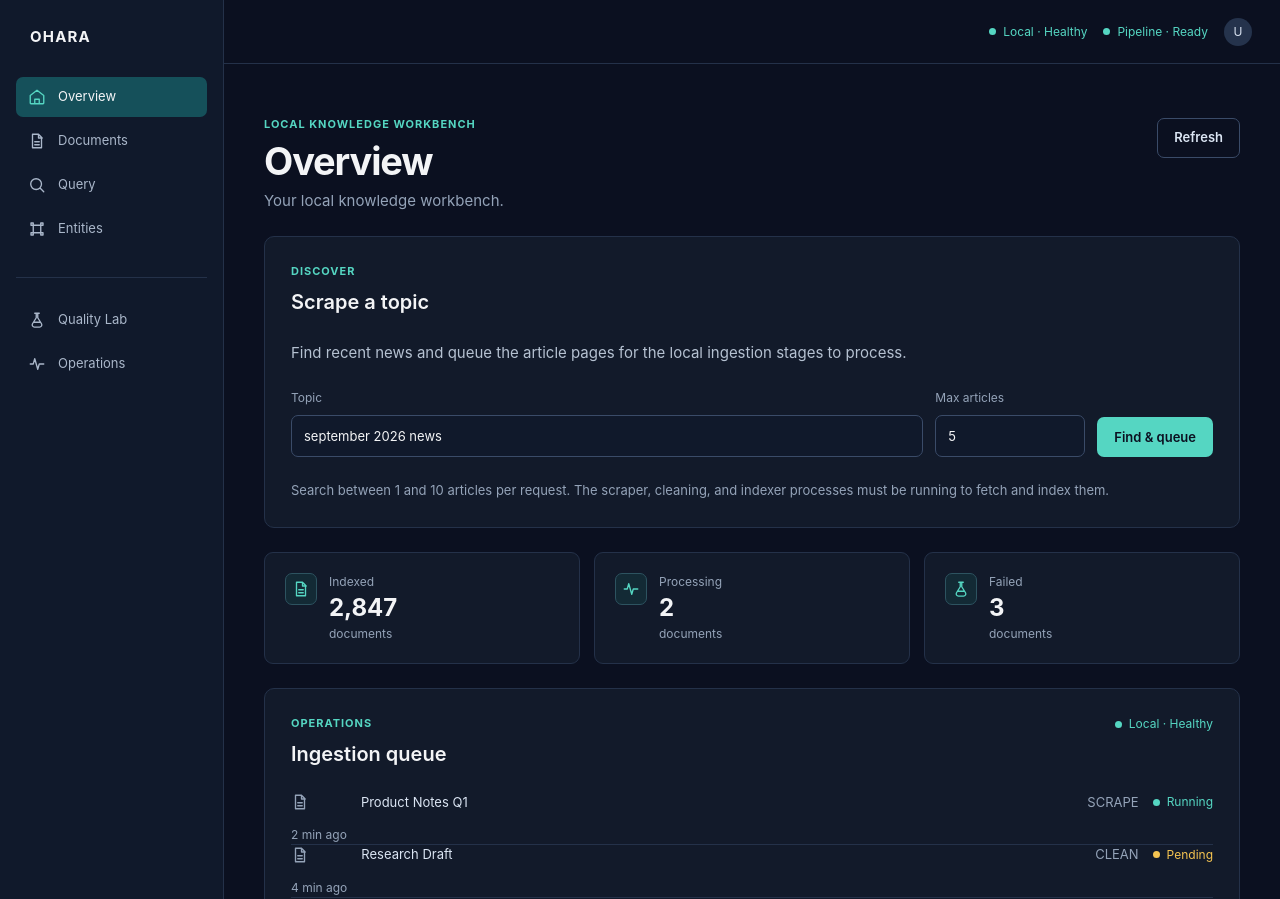
Test: App shell › shows the ungrounded query state
Click the link "Query".
click(62, 184)  # box [28, 176, 96, 194]
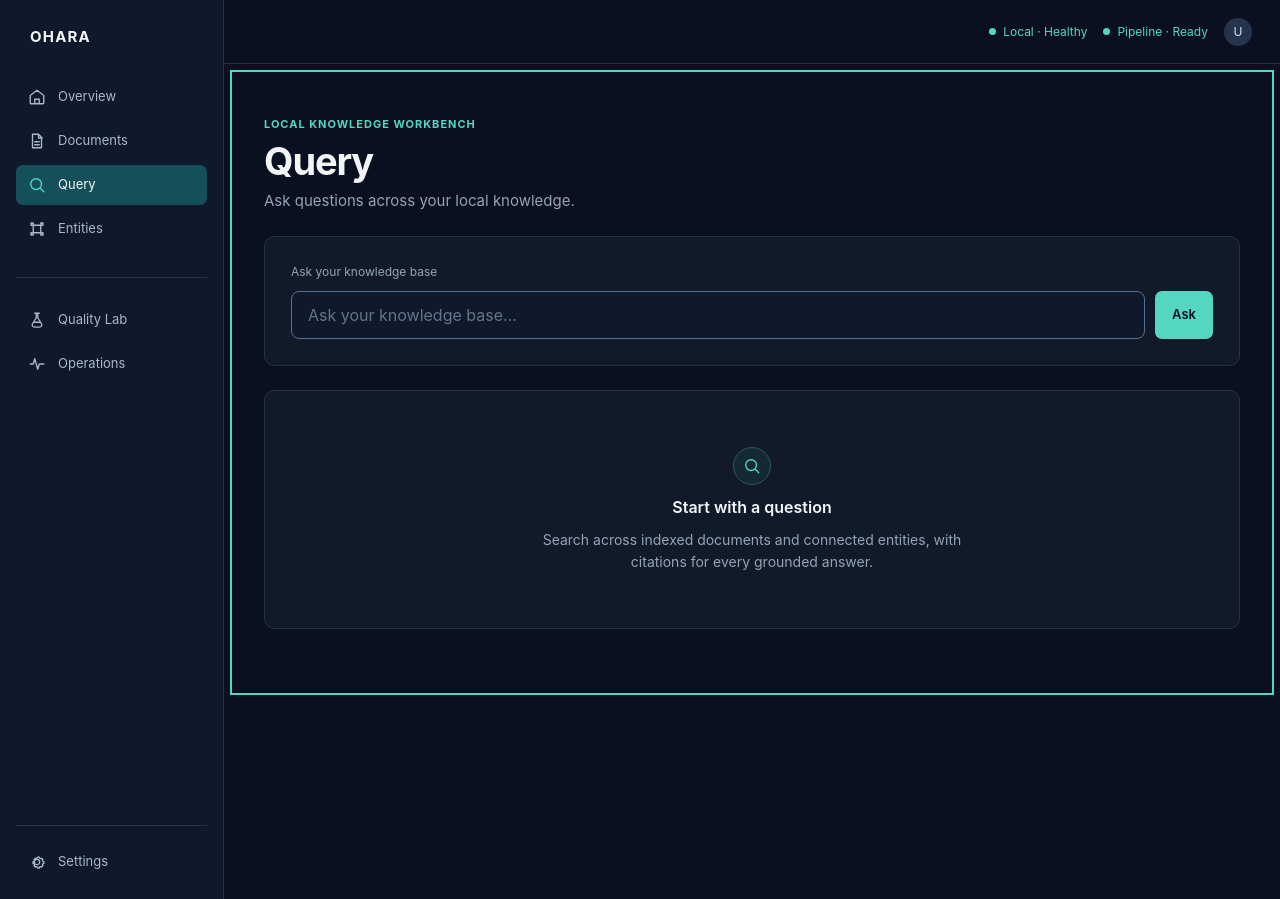
Type "Show an ungrounded answer" into the field labelled "Ask your knowledge base".
click(718, 315); type("Show an ungrounded answer")  # box [291, 291, 1145, 339]
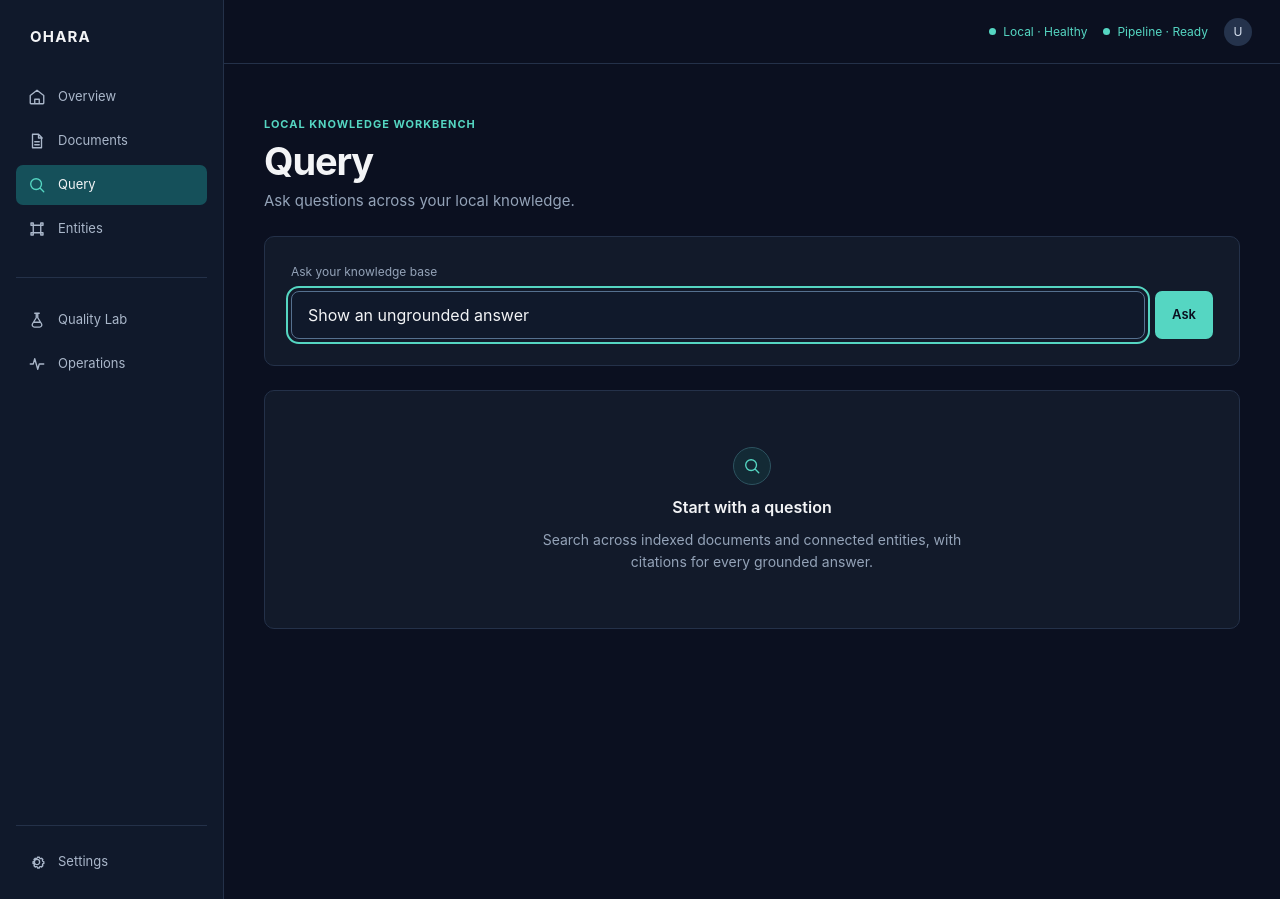
Click the button "Ask".
click(1184, 315)  # box [1155, 291, 1213, 339]
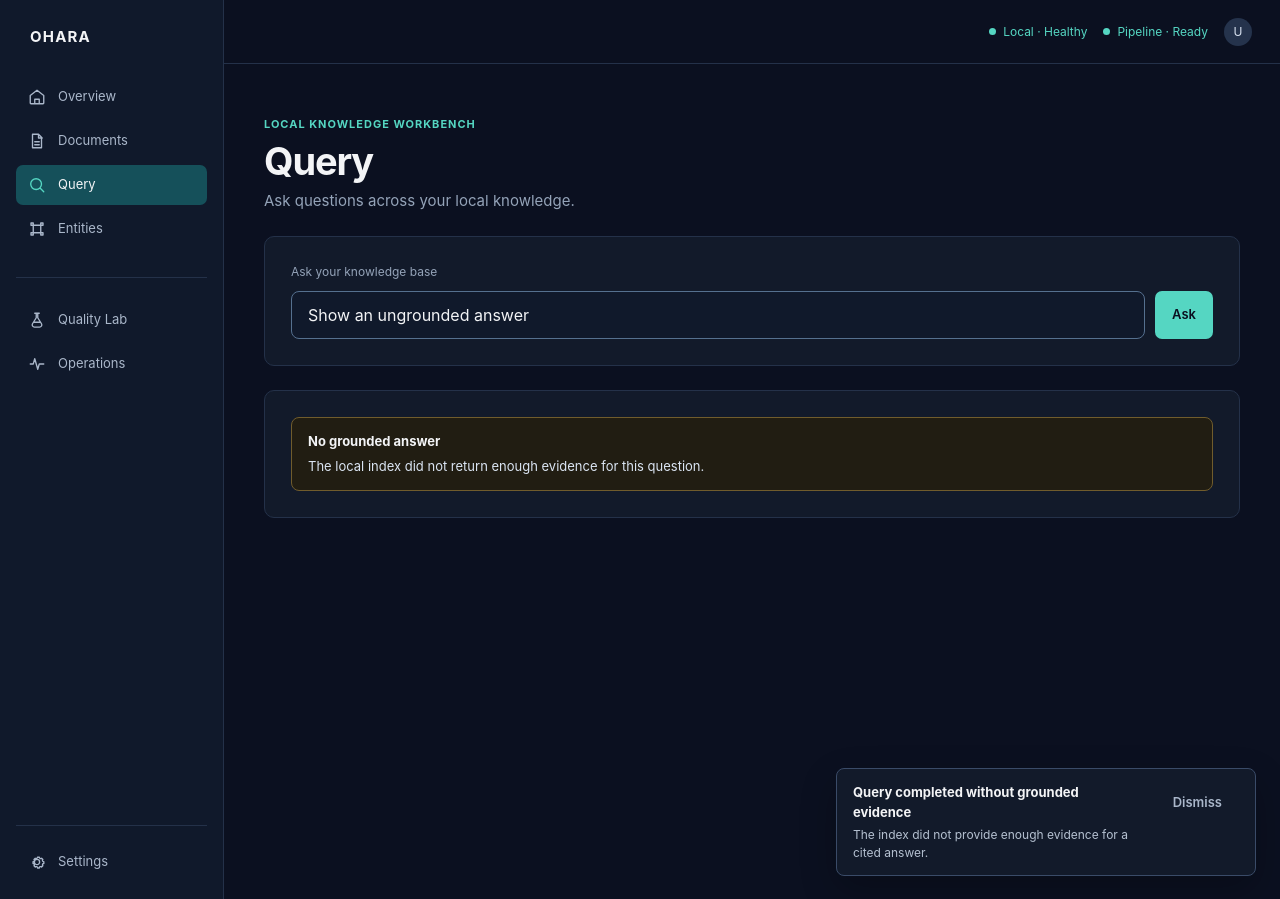
Check: the text "No grounded answer" is shown, box [308, 433, 440, 449]
